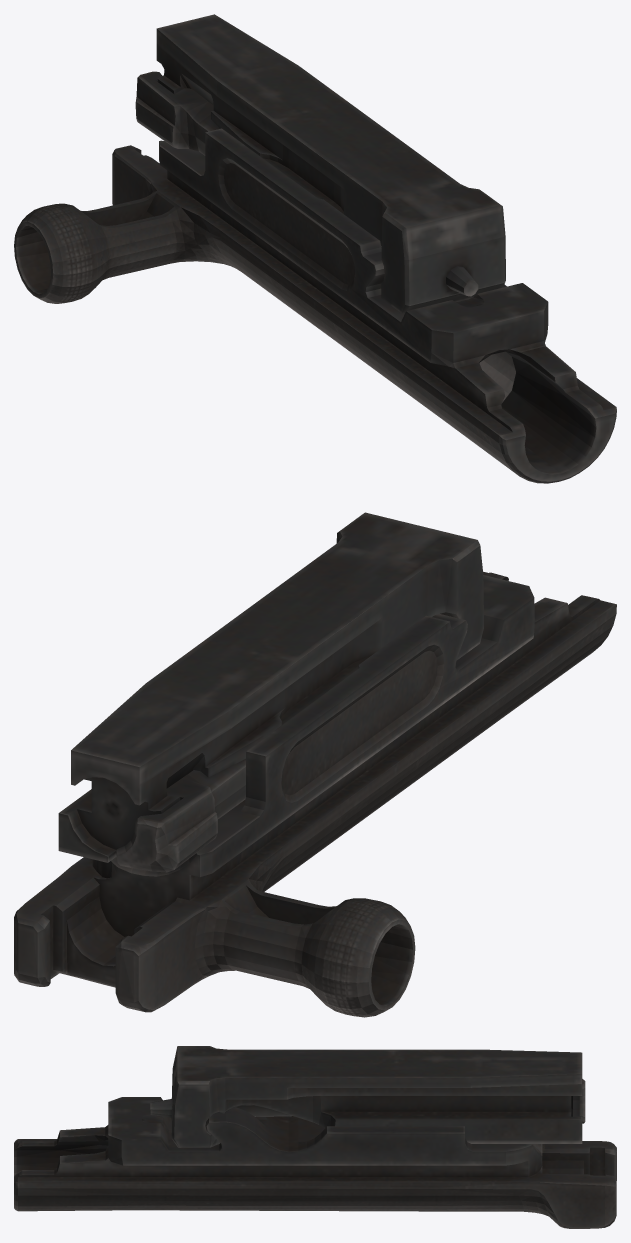
3 renders of one model, top to bottom at view 1: azimuth 30°, elevation 25°; view 2: azimuth 150°, elevation 25°; view 3: azimuth 270°, elevation 25°, orthographic. The views are drawn at different scales.
Visible parts, largest first — view 1: TW_574d967124597745970e7c94_PZ_Import; view 2: TW_574d967124597745970e7c94_PZ_Import; view 3: TW_574d967124597745970e7c94_PZ_Import.
Boxes of the visible parts, x1=… form: TW_574d967124597745970e7c94_PZ_Import: x1=14, y1=14, x2=616, y2=483; TW_574d967124597745970e7c94_PZ_Import: x1=14, y1=512, x2=616, y2=1017; TW_574d967124597745970e7c94_PZ_Import: x1=14, y1=1046, x2=616, y2=1228.
Size of the model in its own units: 0.0288 by 0.0771 by 0.0218.
1 material, 1 textured.
